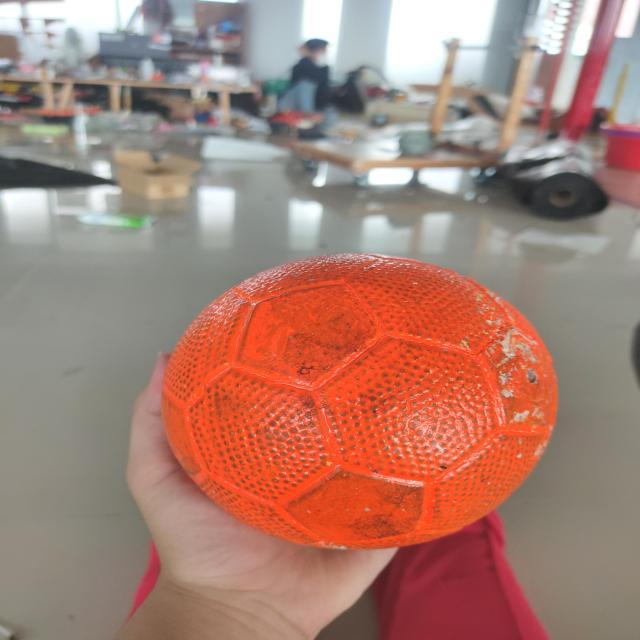bola: (136, 238, 572, 560)
